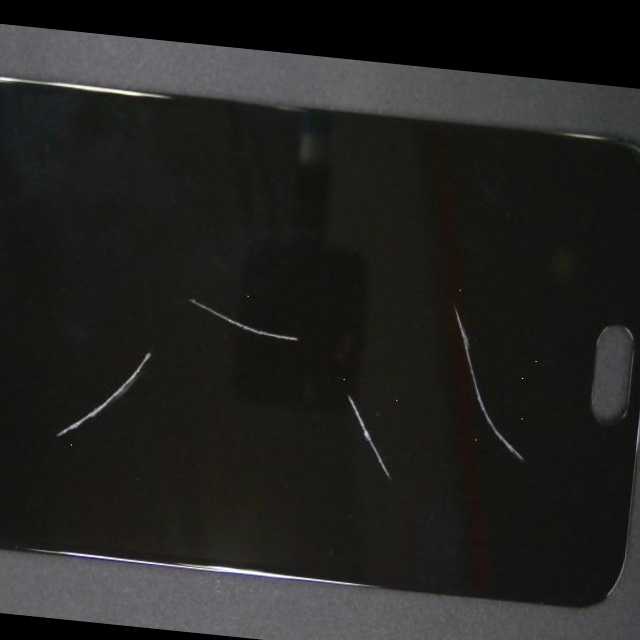scratch: (123, 116, 640, 563), (101, 216, 560, 614), (0, 148, 385, 491), (58, 132, 237, 539)
